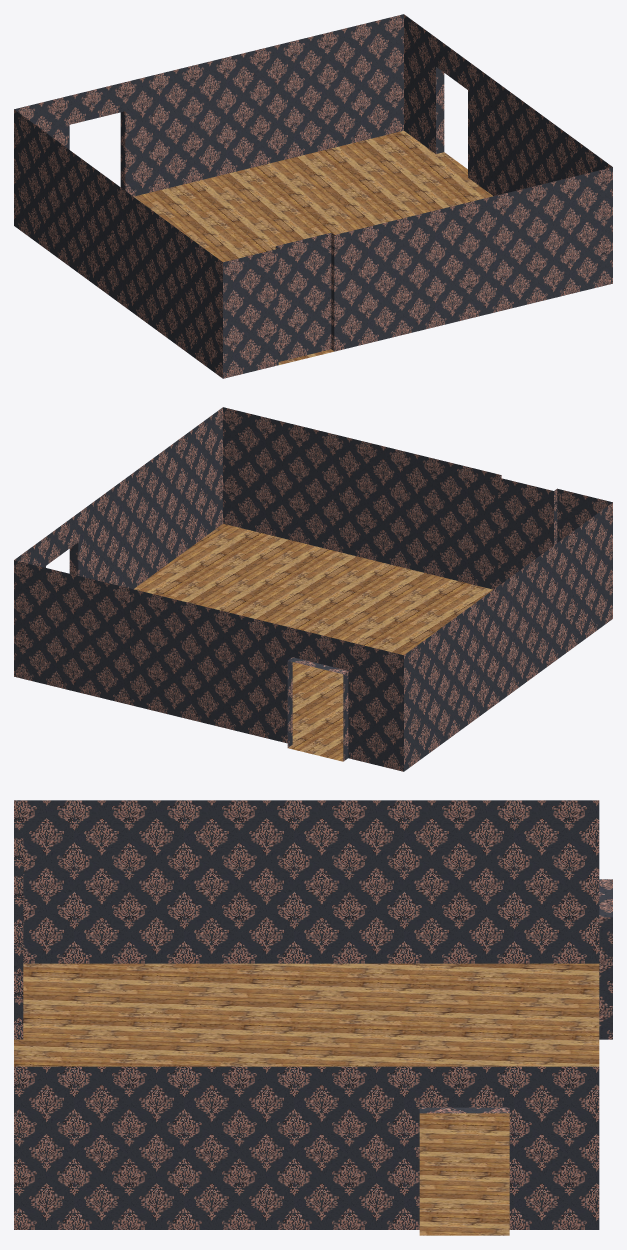
The model's file is room2.glb.
3 views of the same model, one above another, from view 1: azimuth 30°, elevation 25°; view 2: azimuth 150°, elevation 25°; view 3: azimuth 270°, elevation 25° (orthographic). The views are drawn at different scales.
Visible parts, largest first — view 1: room2; view 2: room2; view 3: room2.
Boxes of the visible parts, x1=… form: room2: x1=14, y1=14, x2=612, y2=378; room2: x1=14, y1=407, x2=612, y2=771; room2: x1=14, y1=800, x2=612, y2=1235.
Size of the model in its own units: 14.3 by 4 by 13.3.
2 materials, 2 textured.
